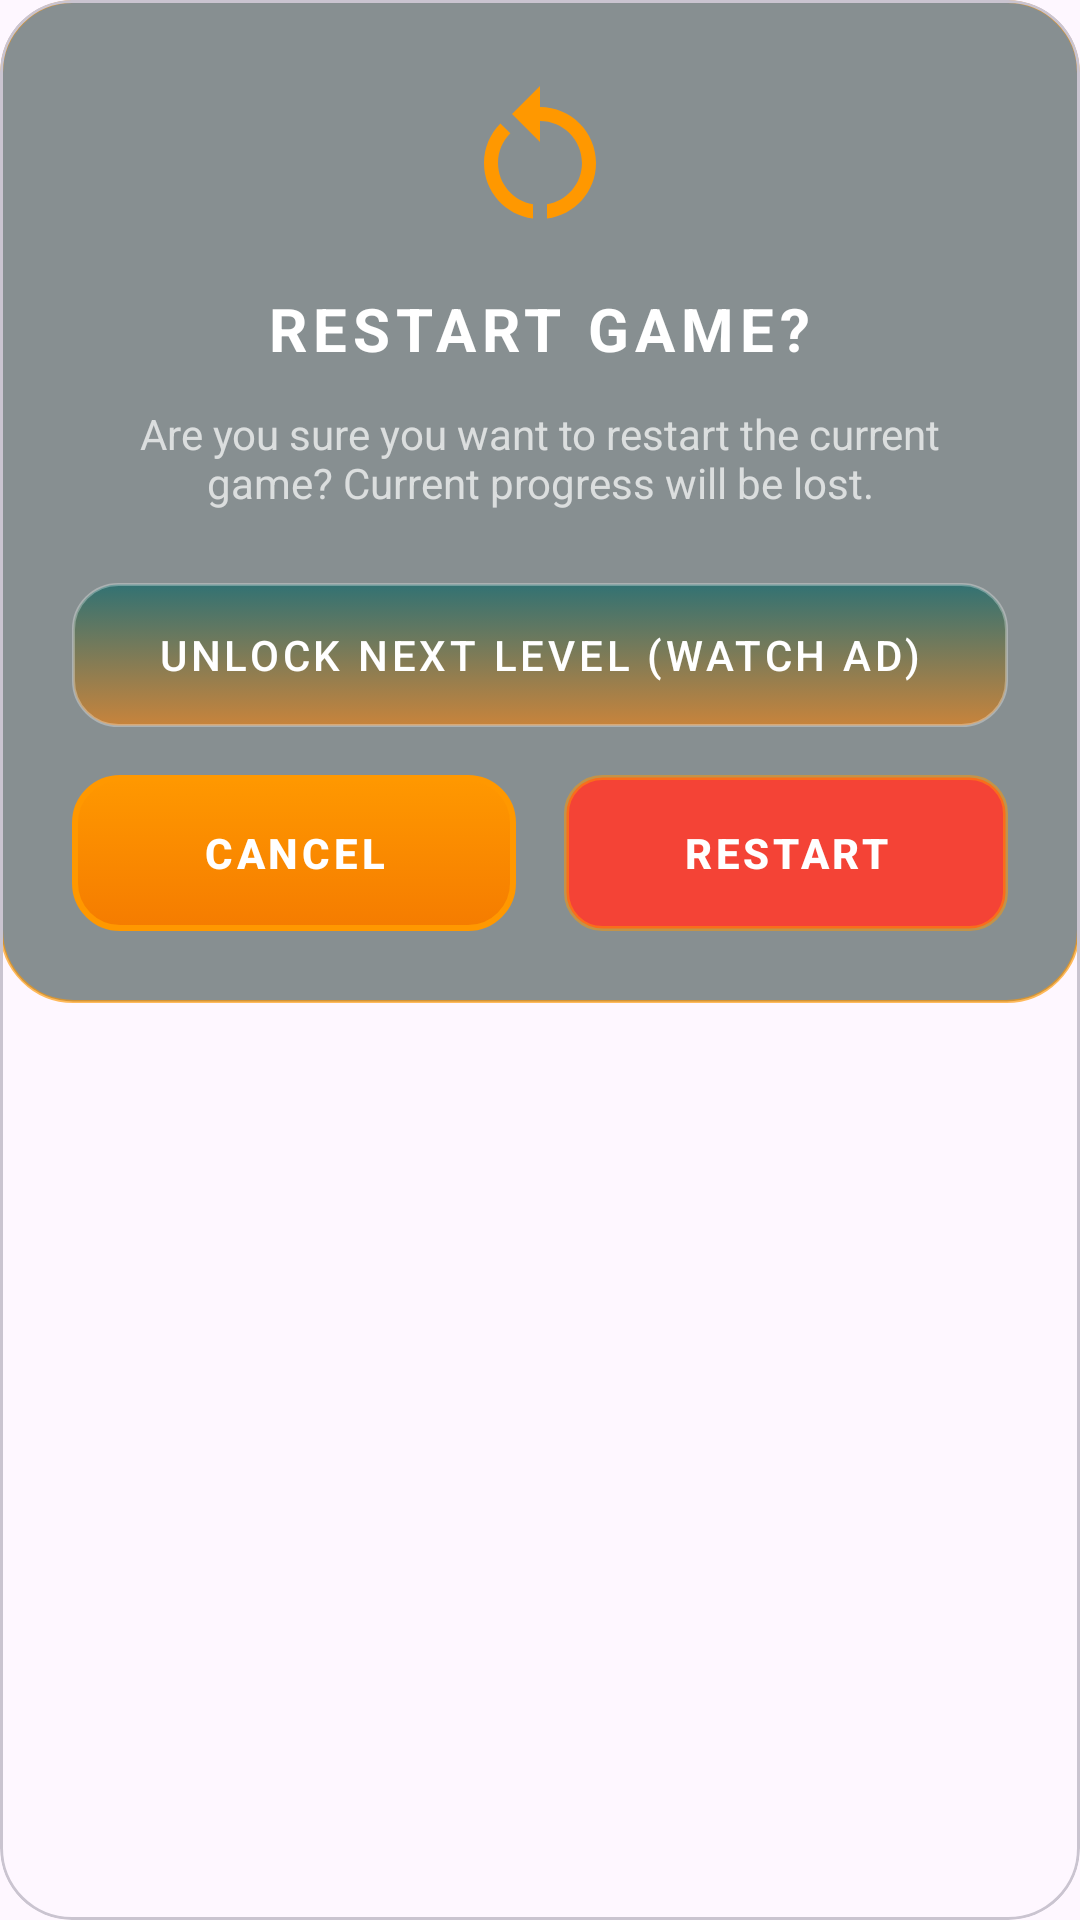

Point at icon controls on the screen. Image size 1080*1920, points as (x=x, y=y).
restarting: (x=540, y=152)
